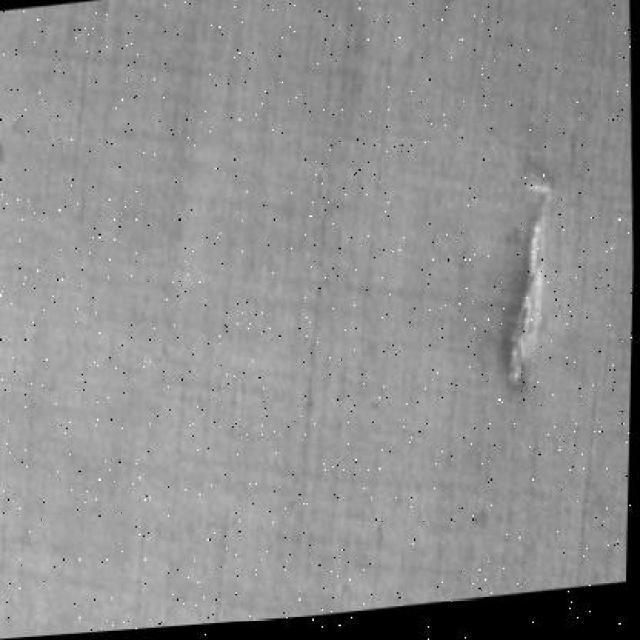other: (386, 126, 602, 504)
